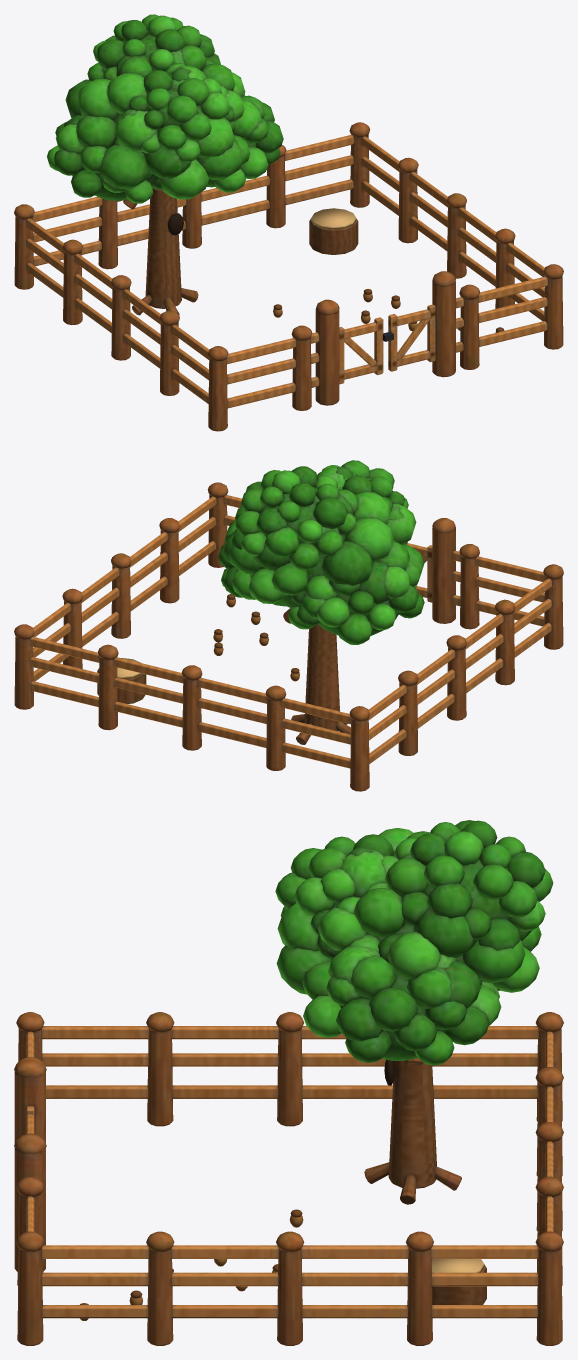
File: squirrel_grove.glb
3 renders of one model, top to bottom at view 1: azimuth 30°, elevation 25°; view 2: azimuth 150°, elevation 25°; view 3: azimuth 270°, elevation 25°, orthographic. The views are drawn at different scales.
Parts seen in each view (by area): view 1: squirrel_grove; view 2: squirrel_grove; view 3: squirrel_grove.
Part boxes in pixels (left/top/right/bottom): squirrel_grove: left=14, top=14, right=563, bottom=431; squirrel_grove: left=14, top=460, right=563, bottom=791; squirrel_grove: left=14, top=820, right=563, bottom=1345.
Size of the model in its own units: 2.02 by 1.47 by 2.01.
1 material, 1 textured.
